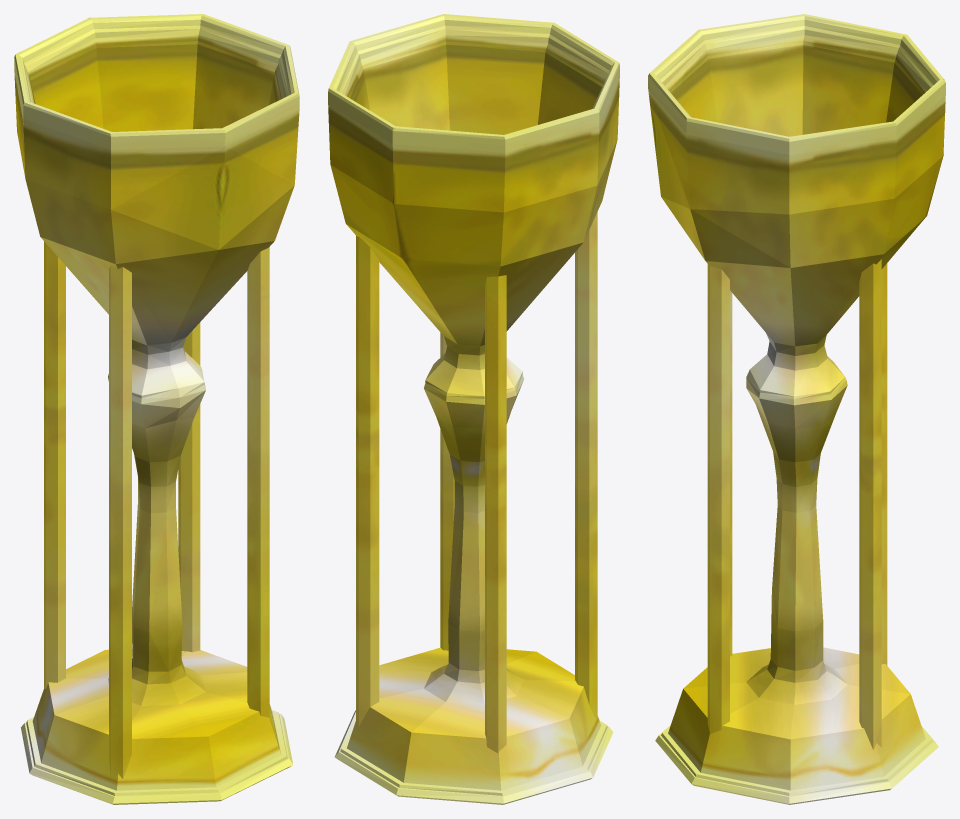
Rendered from Trophy.glb.
3 renders of one model, left to right at view 1: azimuth 30°, elevation 25°; view 2: azimuth 150°, elevation 25°; view 3: azimuth 270°, elevation 25°, orthographic.
Parts seen in each view (by area): view 1: Trophy; view 2: Trophy; view 3: Trophy.
Boxes of the visible parts, x1,y1,x2,y2 form: Trophy: [14, 14, 299, 804]; Trophy: [328, 14, 619, 804]; Trophy: [648, 14, 945, 804].
Size of the model in its own units: 102 by 253 by 102.
Materials: 1 (1 with a texture image).
